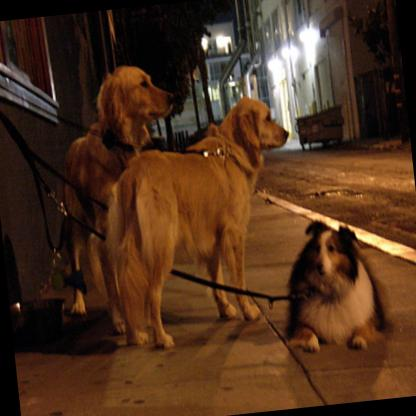Shetland_sheepdog: (273, 204, 397, 363)
